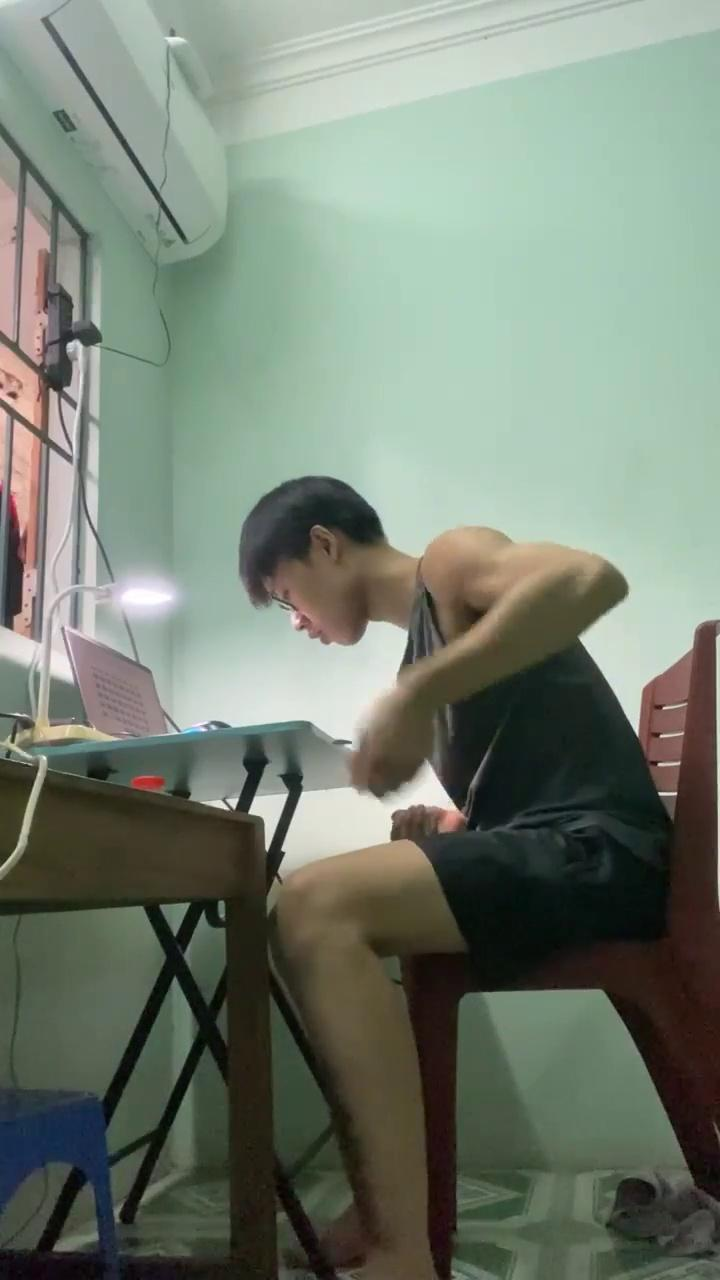BadPosture: (239, 475, 671, 1279)
